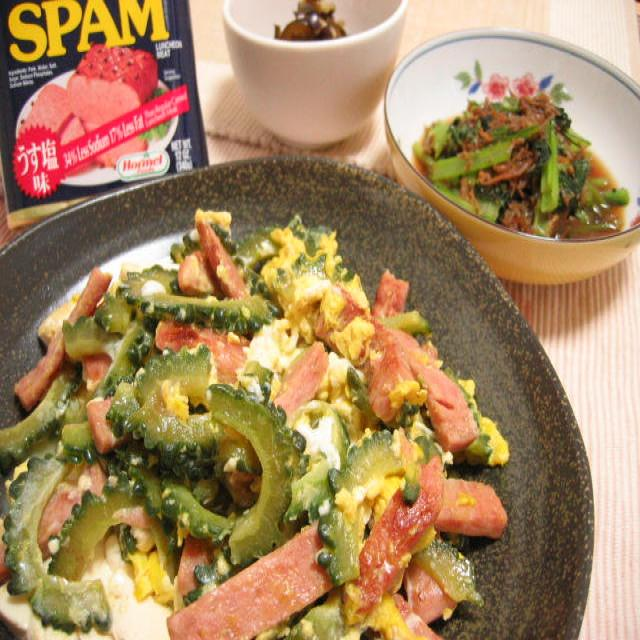熟制海鲜: (0, 141, 602, 640)
